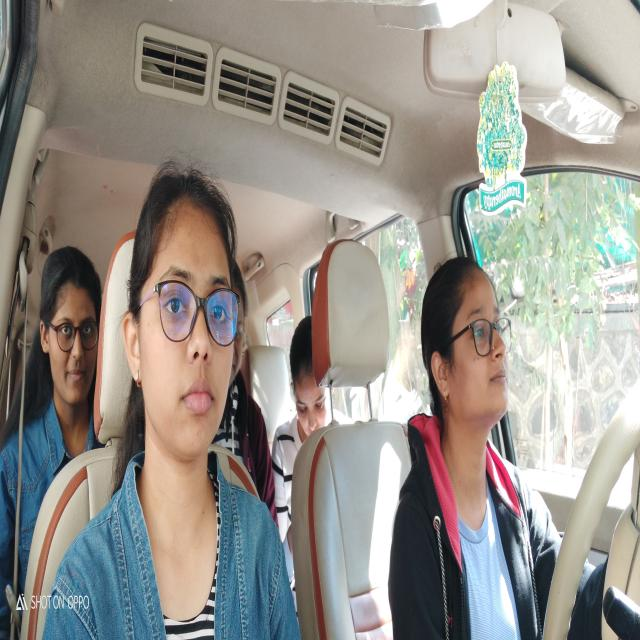person: (126, 159, 245, 463), (426, 242, 514, 448), (35, 232, 105, 416), (284, 320, 336, 458)
